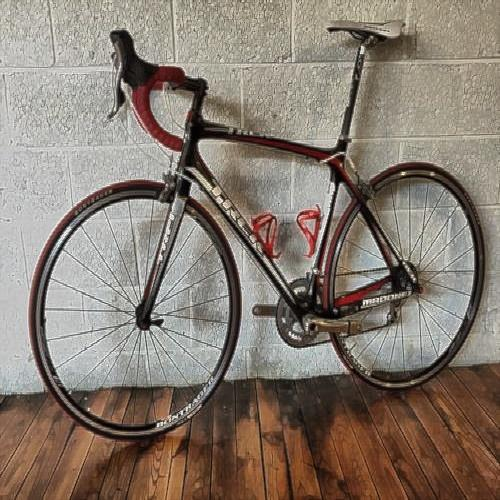bicycle: (49, 29, 475, 425)
